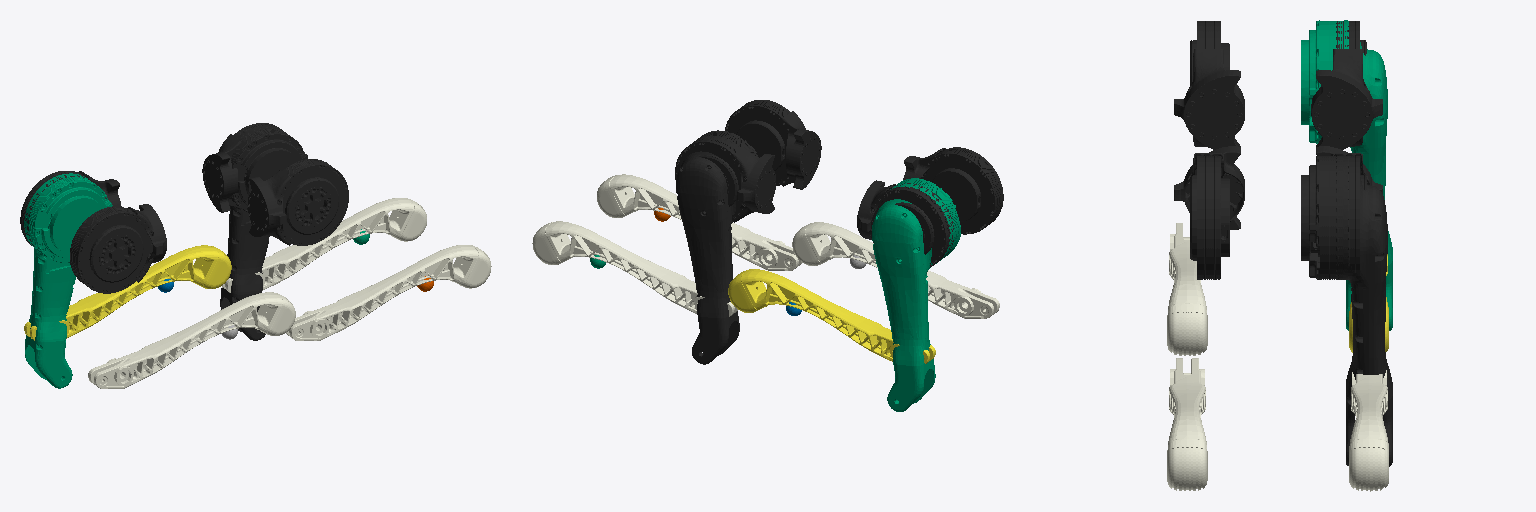
URDF robot description (laikago):
<?xml version="1.0" ?>
<!-- =================================================================================== -->
<!-- |    This document was autogenerated by xacro from robot.xacro                    | -->
<!-- |    EDITING THIS FILE BY HAND IS NOT RECOMMENDED                                 | -->
<!-- =================================================================================== -->
<robot name="laikago" xmlns:xacro="http://www.ros.org/wiki/xacro">
  <material name="black">
    <color rgba="0.0 0.0 0.0 1.0"/>
  </material>
  <material name="blue">
    <color rgba="0.0 0.0 0.8 1.0"/>
  </material>
  <material name="green">
    <color rgba="0.0 0.8 0.0 1.0"/>
  </material>
  <material name="grey">
    <color rgba="0.2 0.2 0.2 1.0"/>
  </material>
  <material name="silver">
    <color rgba="0.913725490196 0.913725490196 0.847058823529 1.0"/>
  </material>
  <material name="orange">
    <color rgba="1.0 0.423529411765 0.0392156862745 1.0"/>
  </material>
  <material name="brown">
    <color rgba="0.870588235294 0.811764705882 0.764705882353 1.0"/>
  </material>
  <material name="red">
    <color rgba="0.8 0.0 0.0 1.0"/>
  </material>
  <material name="white">
    <color rgba="1.0 1.0 1.0 1.0"/>
  </material>

  <link name="trunk">
    <visual>
      <origin rpy="0 0 0" xyz="0 0 0"/>
      <geometry>
        <mesh filename="../meshes/trunk.dae" scale="1 1 1"/>
      </geometry>
      <material name="orange"/>
    </visual>
    <collision>
      <origin rpy="0 0 0" xyz="0 0 0.01675"/>
      <geometry>
        <box size="0.5616 0.172 0.1875"/>
      </geometry>
    </collision>
    <inertial>
      <origin rpy="0 0 0" xyz="0.002284 -4.1e-05 0.025165"/>
      <mass value="13.733"/>
      <inertia ixx="0.073348887" ixy="0.00030338" ixz="0.001918218" iyy="0.250684593" iyz="-7.5402e-05" izz="0.254469458"/>
    </inertial>
  </link>
  <joint name="FR_hip_joint" type="revolute">
    <origin rpy="0 0 0" xyz="0.21935 -0.0875 0"/>
    <parent link="trunk"/>
    <child link="FR_hip"/>
    <axis xyz="1 0 0"/>
    <dynamics damping="0" friction="0"/>
    <limit effort="20" lower="-1.0471975512" upper="0.872664625997" velocity="52.4"/>
  </joint>
  <link name="FR_hip">
    <visual>
      <origin rpy="3.14159265359 0 0" xyz="0 0 0"/>
      <geometry>
        <mesh filename="../meshes/hip.dae" scale="1 1 1"/>
      </geometry>
      <material name="grey"/>
    </visual>
    <collision>
      <origin rpy="1.57079632679 0 0" xyz="0 0.021 0"/>
      <geometry>
        <cylinder length="0.08" radius="0.041"/>
      </geometry>
    </collision>
    <inertial>
      <origin rpy="0 0 0" xyz="-0.001568 0.008134 0.000864"/>
      <mass value="1.096"/>
      <inertia ixx="0.000822113" ixy="4.982e-06" ixz="-3.672e-05" iyy="0.000983196" iyz="-2.811e-06" izz="0.000864753"/>
    </inertial>
  </link>
  <joint name="FR_hip_fixed" type="fixed">
    <origin rpy="0 0 0" xyz="0 -0.059 0"/>
    <parent link="FR_hip"/>
    <child link="FR_thigh_shoulder"/>
  </joint>
  <!-- this link is only for collision -->
  <link name="FR_thigh_shoulder">
    <collision>
      <origin rpy="1.57079632679 0 0" xyz="0 0 0"/>
      <geometry>
        <cylinder length="0.08" radius="0.044"/>
      </geometry>
    </collision>
  </link>
  <joint name="FR_thigh_joint" type="revolute">
    <origin rpy="0 0 0" xyz="0 -0.037 0"/>
    <parent link="FR_hip"/>
    <child link="FR_thigh"/>
    <axis xyz="0 1 0"/>
    <dynamics damping="0" friction="0"/>
    <limit effort="55" lower="-0.523598775598" upper="3.92699081699" velocity="28.6"/>
  </joint>
  <link name="FR_thigh">
    <visual>
      <origin rpy="0 0 0" xyz="0 0 0"/>
      <geometry>
        <mesh filename="../meshes/thigh_mirror.dae" scale="1 1 1"/>
      </geometry>
      <material name="grey"/>
    </visual>
    <collision>
      <origin rpy="0 1.57079632679 0" xyz="0 0 -0.125"/>
      <geometry>
        <box size="0.25 0.034 0.043"/>
      </geometry>
    </collision>
    <inertial>
      <origin rpy="0 0 0" xyz="-0.000482 -0.02001 -0.031996"/>
      <mass value="1.528"/>
      <inertia ixx="0.00991611" ixy="-1.0388e-05" ixz="0.000250428" iyy="0.009280083" iyz="8.511e-05" izz="0.00178256"/>
    </inertial>
  </link>
  <joint name="FR_calf_joint" type="revolute">
    <origin rpy="0 0 0" xyz="0 0 -0.25"/>
    <parent link="FR_thigh"/>
    <child link="FR_calf"/>
    <axis xyz="0 1 0"/>
    <dynamics damping="0" friction="0"/>
    <limit effort="55" lower="-2.77507351067" upper="-0.610865238198" velocity="28.6"/>
  </joint>
  <link name="FR_calf">
    <visual>
      <origin rpy="0 0 0" xyz="0 0 0"/>
      <geometry>
        <mesh filename="../meshes/calf.dae" scale="1 1 1"/>
      </geometry>
      <material name="silver"/>
    </visual>
    <collision>
      <origin rpy="0 1.57079632679 0" xyz="0 0 -0.125"/>
      <geometry>
        <box size="0.25 0.016 0.016"/>
      </geometry>
    </collision>
    <inertial>
      <origin rpy="0 0 0" xyz="-0.002196 -0.000381 -0.12338"/>
      <mass value="0.241"/>
      <inertia ixx="0.006181961" ixy="2.37e-07" ixz="-2.985e-06" iyy="0.006196546" iyz="5.138e-06" izz="3.4774e-05"/>
    </inertial>
  </link>
  <joint name="FR_foot_fixed" type="fixed">
    <origin rpy="0 0 0" xyz="0 0 -0.25"/>
    <parent link="FR_calf"/>
    <child link="FR_foot"/>
  </joint>
  <link name="FR_foot">
    <visual>
      <origin rpy="0 0 0" xyz="0 0 0"/>
      <geometry>
        <sphere radius="0.0165"/>
      </geometry>
    </visual>
    <collision>
      <origin rpy="0 0 0" xyz="0 0 0"/>
      <geometry>
        <sphere radius="0.0265"/>
      </geometry>
    </collision>
    <inertial>
      <mass value="0.06"/>
      <inertia ixx="1.6854e-05" ixy="0.0" ixz="0.0" iyy="1.6854e-05" iyz="0.0" izz="1.6854e-05"/>
    </inertial>
  </link>

  <joint name="FL_hip_joint" type="revolute">
    <origin rpy="0 0 0" xyz="0.21935 0.0875 0"/>
    <parent link="trunk"/>
    <child link="FL_hip"/>
    <axis xyz="1 0 0"/>
    <dynamics damping="0" friction="0"/>
    <limit effort="20" lower="-0.872664625997" upper="1.0471975512" velocity="52.4"/>
  </joint>
  <link name="FL_hip">
    <visual>
      <origin rpy="0 0 0" xyz="0 0 0"/>
      <geometry>
        <mesh filename="../meshes/hip.dae" scale="1 1 1"/>
      </geometry>
      <material name="grey"/>
    </visual>
    <collision>
      <origin rpy="1.57079632679 0 0" xyz="0 -0.021 0"/>
      <geometry>
        <cylinder length="0.08" radius="0.041"/>
      </geometry>
    </collision>
    <inertial>
      <origin rpy="0 0 0" xyz="-0.001568 -0.008134 0.000864"/>
      <mass value="1.096"/>
      <inertia ixx="0.000822113" ixy="-4.982e-06" ixz="-3.672e-05" iyy="0.000983196" iyz="2.811e-06" izz="0.000864753"/>
    </inertial>
  </link>
  <joint name="FL_hip_fixed" type="fixed">
    <origin rpy="0 0 0" xyz="0 0.059 0"/>
    <parent link="FL_hip"/>
    <child link="FL_thigh_shoulder"/>
  </joint>
  <!-- this link is only for collision -->
  <link name="FL_thigh_shoulder">
    <collision>
      <origin rpy="1.57079632679 0 0" xyz="0 0 0"/>
      <geometry>
        <cylinder length="0.08" radius="0.044"/>
      </geometry>
    </collision>
  </link>
  <joint name="FL_thigh_joint" type="revolute">
    <origin rpy="0 0 0" xyz="0 0.037 0"/>
    <parent link="FL_hip"/>
    <child link="FL_thigh"/>
    <axis xyz="0 1 0"/>
    <dynamics damping="0" friction="0"/>
    <limit effort="55" lower="-0.523598775598" upper="3.92699081699" velocity="28.6"/>
  </joint>
  <link name="FL_thigh">
    <visual>
      <origin rpy="0 0 0" xyz="0 0 0"/>
      <geometry>
        <mesh filename="../meshes/thigh.dae" scale="1 1 1"/>
      </geometry>
      <material name="grey"/>
    </visual>
    <collision>
      <origin rpy="0 1.57079632679 0" xyz="0 0 -0.125"/>
      <geometry>
        <box size="0.25 0.034 0.043"/>
      </geometry>
    </collision>
    <inertial>
      <origin rpy="0 0 0" xyz="-0.000482 0.02001 -0.031996"/>
      <mass value="1.528"/>
      <inertia ixx="0.00991611" ixy="1.0388e-05" ixz="0.000250428" iyy="0.009280083" iyz="-8.511e-05" izz="0.00178256"/>
    </inertial>
  </link>
  <joint name="FL_calf_joint" type="revolute">
    <origin rpy="0 0 0" xyz="0 0 -0.25"/>
    <parent link="FL_thigh"/>
    <child link="FL_calf"/>
    <axis xyz="0 1 0"/>
    <dynamics damping="0" friction="0"/>
    <limit effort="55" lower="-2.77507351067" upper="-0.610865238198" velocity="28.6"/>
  </joint>
  <link name="FL_calf">
    <visual>
      <origin rpy="0 0 0" xyz="0 0 0"/>
      <geometry>
        <mesh filename="../meshes/calf.dae" scale="1 1 1"/>
      </geometry>
      <material name="silver"/>
    </visual>
    <collision>
      <origin rpy="0 1.57079632679 0" xyz="0 0 -0.125"/>
      <geometry>
        <box size="0.25 0.016 0.016"/>
      </geometry>
    </collision>
    <inertial>
      <origin rpy="0 0 0" xyz="-0.002196 -0.000381 -0.12338"/>
      <mass value="0.241"/>
      <inertia ixx="0.006181961" ixy="2.37e-07" ixz="-2.985e-06" iyy="0.006196546" iyz="5.138e-06" izz="3.4774e-05"/>
    </inertial>
  </link>
  <joint name="FL_foot_fixed" type="fixed">
    <origin rpy="0 0 0" xyz="0 0 -0.25"/>
    <parent link="FL_calf"/>
    <child link="FL_foot"/>
  </joint>
  <link name="FL_foot">
    <visual>
      <origin rpy="0 0 0" xyz="0 0 0"/>
      <geometry>
        <sphere radius="0.0165"/>
      </geometry>
    </visual>
    <collision>
      <origin rpy="0 0 0" xyz="0 0 0"/>
      <geometry>
        <sphere radius="0.0265"/>
      </geometry>
    </collision>
    <inertial>
      <mass value="0.06"/>
      <inertia ixx="1.6854e-05" ixy="0.0" ixz="0.0" iyy="1.6854e-05" iyz="0.0" izz="1.6854e-05"/>
    </inertial>
  </link>
  
  <joint name="RR_hip_joint" type="revolute">
    <origin rpy="0 0 0" xyz="-0.21935 -0.0875 0"/>
    <parent link="trunk"/>
    <child link="RR_hip"/>
    <axis xyz="1 0 0"/>
    <dynamics damping="0" friction="0"/>
    <limit effort="20" lower="-1.0471975512" upper="0.872664625997" velocity="52.4"/>
  </joint>
  <link name="RR_hip">
    <visual>
      <origin rpy="3.14159265359 3.14159265359 0" xyz="0 0 0"/>
      <geometry>
        <mesh filename="../meshes/hip.dae" scale="1 1 1"/>
      </geometry>
      <material name="grey"/>
    </visual>
    <collision>
      <origin rpy="1.57079632679 0 0" xyz="0 0.021 0"/>
      <geometry>
        <cylinder length="0.08" radius="0.041"/>
      </geometry>
    </collision>
    <inertial>
      <origin rpy="0 0 0" xyz="0.001568 0.008134 0.000864"/>
      <mass value="1.096"/>
      <inertia ixx="0.000822113" ixy="-4.982e-06" ixz="3.672e-05" iyy="0.000983196" iyz="-2.811e-06" izz="0.000864753"/>
    </inertial>
  </link>
  <joint name="RR_hip_fixed" type="fixed">
    <origin rpy="0 0 0" xyz="0 -0.059 0"/>
    <parent link="RR_hip"/>
    <child link="RR_thigh_shoulder"/>
  </joint>
  <!-- this link is only for collision -->
  <link name="RR_thigh_shoulder">
    <collision>
      <origin rpy="1.57079632679 0 0" xyz="0 0 0"/>
      <geometry>
        <cylinder length="0.08" radius="0.044"/>
      </geometry>
    </collision>
  </link>
  <joint name="RR_thigh_joint" type="revolute">
    <origin rpy="0 0 0" xyz="0 -0.037 0"/>
    <parent link="RR_hip"/>
    <child link="RR_thigh"/>
    <axis xyz="0 1 0"/>
    <dynamics damping="0" friction="0"/>
    <limit effort="55" lower="-0.523598775598" upper="3.92699081699" velocity="28.6"/>
  </joint>
  <link name="RR_thigh">
    <visual>
      <origin rpy="0 0 0" xyz="0 0 0"/>
      <geometry>
        <mesh filename="../meshes/thigh_mirror.dae" scale="1 1 1"/>
      </geometry>
      <material name="grey"/>
    </visual>
    <collision>
      <origin rpy="0 1.57079632679 0" xyz="0 0 -0.125"/>
      <geometry>
        <box size="0.25 0.034 0.043"/>
      </geometry>
    </collision>
    <inertial>
      <origin rpy="0 0 0" xyz="-0.000482 -0.02001 -0.031996"/>
      <mass value="1.528"/>
      <inertia ixx="0.00991611" ixy="-1.0388e-05" ixz="0.000250428" iyy="0.009280083" iyz="8.511e-05" izz="0.00178256"/>
    </inertial>
  </link>
  <joint name="RR_calf_joint" type="revolute">
    <origin rpy="0 0 0" xyz="0 0 -0.25"/>
    <parent link="RR_thigh"/>
    <child link="RR_calf"/>
    <axis xyz="0 1 0"/>
    <dynamics damping="0" friction="0"/>
    <limit effort="55" lower="-2.77507351067" upper="-0.610865238198" velocity="28.6"/>
  </joint>
  <link name="RR_calf">
    <visual>
      <origin rpy="0 0 0" xyz="0 0 0"/>
      <geometry>
        <mesh filename="../meshes/calf.dae" scale="1 1 1"/>
      </geometry>
      <material name="silver"/>
    </visual>
    <collision>
      <origin rpy="0 1.57079632679 0" xyz="0 0 -0.125"/>
      <geometry>
        <box size="0.25 0.016 0.016"/>
      </geometry>
    </collision>
    <inertial>
      <origin rpy="0 0 0" xyz="-0.002196 -0.000381 -0.12338"/>
      <mass value="0.241"/>
      <inertia ixx="0.006181961" ixy="2.37e-07" ixz="-2.985e-06" iyy="0.006196546" iyz="5.138e-06" izz="3.4774e-05"/>
    </inertial>
  </link>
  <joint name="RR_foot_fixed" type="fixed">
    <origin rpy="0 0 0" xyz="0 0 -0.25"/>
    <parent link="RR_calf"/>
    <child link="RR_foot"/>
  </joint>
  <link name="RR_foot">
    <visual>
      <origin rpy="0 0 0" xyz="0 0 0"/>
      <geometry>
        <sphere radius="0.0165"/>
      </geometry>
    </visual>
    <collision>
      <origin rpy="0 0 0" xyz="0 0 0"/>
      <geometry>
        <sphere radius="0.0265"/>
      </geometry>
    </collision>
    <inertial>
      <mass value="0.06"/>
      <inertia ixx="1.6854e-05" ixy="0.0" ixz="0.0" iyy="1.6854e-05" iyz="0.0" izz="1.6854e-05"/>
    </inertial>
  </link>
  
  <joint name="RL_hip_joint" type="revolute">
    <origin rpy="0 0 0" xyz="-0.21935 0.0875 0"/>
    <parent link="trunk"/>
    <child link="RL_hip"/>
    <axis xyz="1 0 0"/>
    <dynamics damping="0" friction="0"/>
    <limit effort="20" lower="-0.872664625997" upper="1.0471975512" velocity="52.4"/>
  </joint>
  <link name="RL_hip">
    <visual>
      <origin rpy="0 3.14159265359 0" xyz="0 0 0"/>
      <geometry>
        <mesh filename="../meshes/hip.dae" scale="1 1 1"/>
      </geometry>
      <material name="grey"/>
    </visual>
    <collision>
      <origin rpy="1.57079632679 0 0" xyz="0 -0.021 0"/>
      <geometry>
        <cylinder length="0.08" radius="0.041"/>
      </geometry>
    </collision>
    <inertial>
      <origin rpy="0 0 0" xyz="0.001568 -0.008134 0.000864"/>
      <mass value="1.096"/>
      <inertia ixx="0.000822113" ixy="4.982e-06" ixz="3.672e-05" iyy="0.000983196" iyz="2.811e-06" izz="0.000864753"/>
    </inertial>
  </link>
  <joint name="RL_hip_fixed" type="fixed">
    <origin rpy="0 0 0" xyz="0 0.059 0"/>
    <parent link="RL_hip"/>
    <child link="RL_thigh_shoulder"/>
  </joint>
  <!-- this link is only for collision -->
  <link name="RL_thigh_shoulder">
    <collision>
      <origin rpy="1.57079632679 0 0" xyz="0 0 0"/>
      <geometry>
        <cylinder length="0.08" radius="0.044"/>
      </geometry>
    </collision>
  </link>
  <joint name="RL_thigh_joint" type="revolute">
    <origin rpy="0 0 0" xyz="0 0.037 0"/>
    <parent link="RL_hip"/>
    <child link="RL_thigh"/>
    <axis xyz="0 1 0"/>
    <dynamics damping="0" friction="0"/>
    <limit effort="55" lower="-0.523598775598" upper="3.92699081699" velocity="28.6"/>
  </joint>
  <link name="RL_thigh">
    <visual>
      <origin rpy="0 0 0" xyz="0 0 0"/>
      <geometry>
        <mesh filename="../meshes/thigh.dae" scale="1 1 1"/>
      </geometry>
    </visual>
    <collision>
      <origin rpy="0 1.57079632679 0" xyz="0 0 -0.125"/>
      <geometry>
        <box size="0.25 0.034 0.043"/>
      </geometry>
    </collision>
    <inertial>
      <origin rpy="0 0 0" xyz="-0.000482 0.02001 -0.031996"/>
      <mass value="1.528"/>
      <inertia ixx="0.00991611" ixy="1.0388e-05" ixz="0.000250428" iyy="0.009280083" iyz="-8.511e-05" izz="0.00178256"/>
    </inertial>
  </link>
  <joint name="RL_calf_joint" type="revolute">
    <origin rpy="0 0 0" xyz="0 0 -0.25"/>
    <parent link="RL_thigh"/>
    <child link="RL_calf"/>
    <axis xyz="0 1 0"/>
    <dynamics damping="0" friction="0"/>
    <limit effort="55" lower="-2.77507351067" upper="-0.610865238198" velocity="28.6"/>
  </joint>
  <link name="RL_calf">
    <visual>
      <origin rpy="0 0 0" xyz="0 0 0"/>
      <geometry>
        <mesh filename="../meshes/calf.dae" scale="1 1 1"/>
      </geometry>
    </visual>
    <collision>
      <origin rpy="0 1.57079632679 0" xyz="0 0 -0.125"/>
      <geometry>
        <box size="0.25 0.016 0.016"/>
      </geometry>
    </collision>
    <inertial>
      <origin rpy="0 0 0" xyz="-0.002196 -0.000381 -0.12338"/>
      <mass value="0.241"/>
      <inertia ixx="0.006181961" ixy="2.37e-07" ixz="-2.985e-06" iyy="0.006196546" iyz="5.138e-06" izz="3.4774e-05"/>
    </inertial>
  </link>
  <joint name="RL_foot_fixed" type="fixed">
    <origin rpy="0 0 0" xyz="0 0 -0.25"/>
    <parent link="RL_calf"/>
    <child link="RL_foot"/>
  </joint>
  <link name="RL_foot">
    <visual>
      <origin rpy="0 0 0" xyz="0 0 0"/>
      <geometry>
        <sphere radius="0.0165"/>
      </geometry>
    </visual>
    <collision>
      <origin rpy="0 0 0" xyz="0 0 0"/>
      <geometry>
        <sphere radius="0.0265"/>
      </geometry>
    </collision>
    <inertial>
      <mass value="0.06"/>
      <inertia ixx="1.6854e-05" ixy="0.0" ixz="0.0" iyy="1.6854e-05" iyz="0.0" izz="1.6854e-05"/>
    </inertial>
  </link>
</robot>

--- What the picture shows (computed from the rendered views, not written in the file) ---
3 views of the same robot in one strip: view 1: azimuth 30°, elevation 25°; view 2: azimuth 150°, elevation 25°; view 3: azimuth 270°, elevation 25° (orthographic).
Robot: laikago — 21 links, 20 joints (12 revolute, 8 fixed); root link trunk; default pose: joints at zero except 4 at the middle of their limits (FR_calf_joint = -1.69, FL_calf_joint = -1.69, RR_calf_joint = -1.69, RL_calf_joint = -1.69).
Visible links, largest first — view 1: RL_thigh, FR_hip, RR_hip, FL_thigh, RR_calf, FR_calf, RL_calf, FL_calf, FL_hip, RL_hip; view 2: RL_thigh, FL_thigh, RL_calf, FL_calf, FR_hip, RR_hip, RR_calf, FR_calf, FL_hip, RL_hip; view 3: FL_thigh, FR_hip, RR_hip, RL_thigh, RL_hip, FR_calf, FL_calf, RR_calf, FL_hip.
Link boxes in pixels (box(x1,y1,x2,y2)): RL_thigh: box(24, 173, 112, 388); FR_hip: box(248, 159, 348, 245); RR_hip: box(70, 204, 166, 293); FL_thigh: box(220, 126, 307, 340); RR_calf: box(88, 292, 295, 388); FR_calf: box(286, 245, 491, 340); RL_calf: box(24, 245, 231, 340); FL_calf: box(222, 198, 426, 292); FL_hip: box(202, 123, 285, 212); RL_hip: box(20, 171, 121, 246); RL_thigh: box(872, 178, 960, 411); FL_thigh: box(676, 130, 757, 364); RL_calf: box(728, 269, 935, 363); FL_calf: box(532, 221, 737, 316); FR_hip: box(725, 100, 821, 189); RR_hip: box(903, 147, 1003, 234); RR_calf: box(792, 222, 999, 318); FR_calf: box(597, 174, 801, 270); FL_hip: box(675, 136, 775, 222); RL_hip: box(857, 180, 953, 266); FL_thigh: box(1301, 156, 1392, 466); FR_hip: box(1174, 146, 1244, 279); RR_hip: box(1174, 21, 1244, 149); RL_thigh: box(1301, 20, 1392, 330); RL_hip: box(1311, 21, 1382, 149); FR_calf: box(1167, 358, 1207, 490); FL_calf: box(1349, 370, 1388, 491); RR_calf: box(1167, 223, 1207, 355); FL_hip: box(1316, 146, 1382, 279).
Size in the robot's own frame: 0.9113 by 0.3085 by 0.4589 metres.
Meshes: 5 distinct files referenced, 10 mesh visuals loaded (3 Collada DAE); not drawn: 3 (reference not matched to a file when rendering).